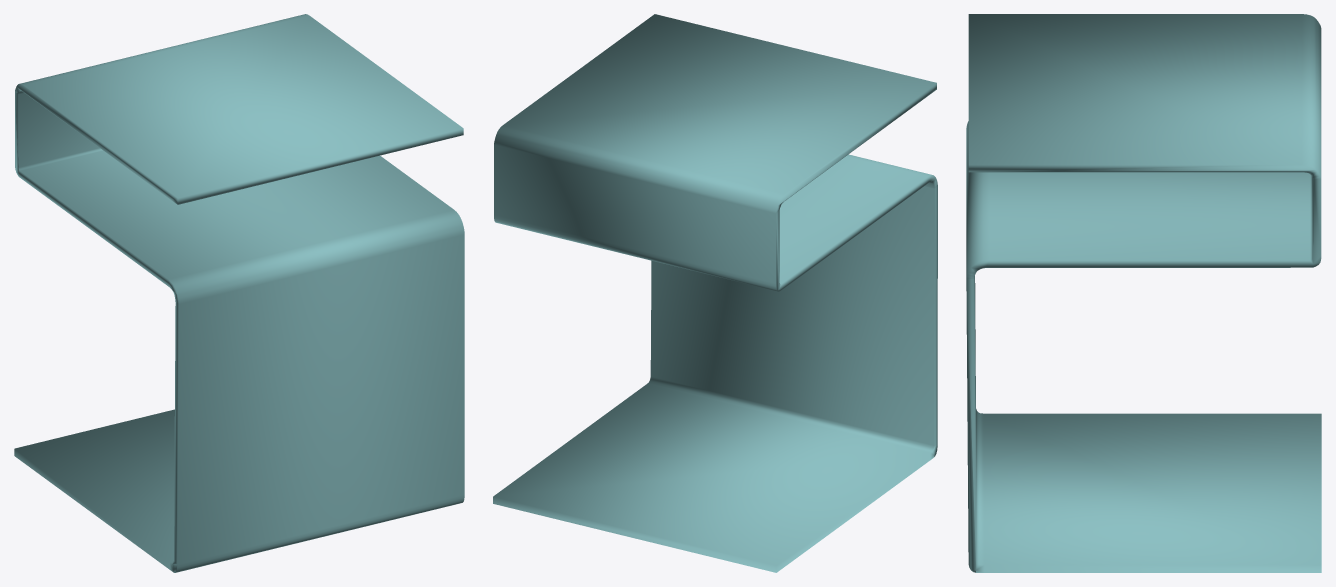
The model's file is ND-0794__Saura_mesa47.glb.
3 renders of one model, left to right at view 1: azimuth 30°, elevation 25°; view 2: azimuth 150°, elevation 25°; view 3: azimuth 270°, elevation 25°, orthographic. The views are drawn at different scales.
Parts seen in each view (by area): view 1: Cube.002; view 2: Cube.002; view 3: Cube.002.
Part boxes in pixels (x1,y1,x2,y2): Cube.002: (14, 14, 464, 572); Cube.002: (493, 14, 937, 572); Cube.002: (966, 14, 1321, 572).
Bounding box in the file's own units: 1.62 × 2.03 × 1.6.
